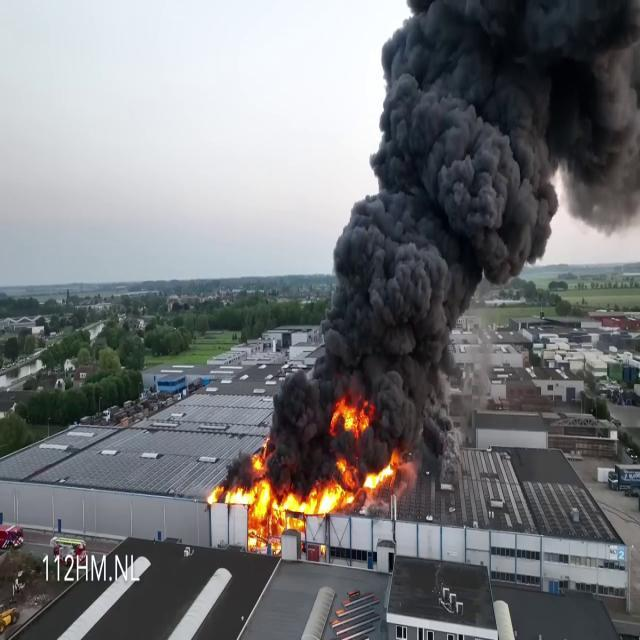Fire: (207, 448, 398, 545), (331, 394, 373, 439)
Smoke: (260, 1, 640, 459)
